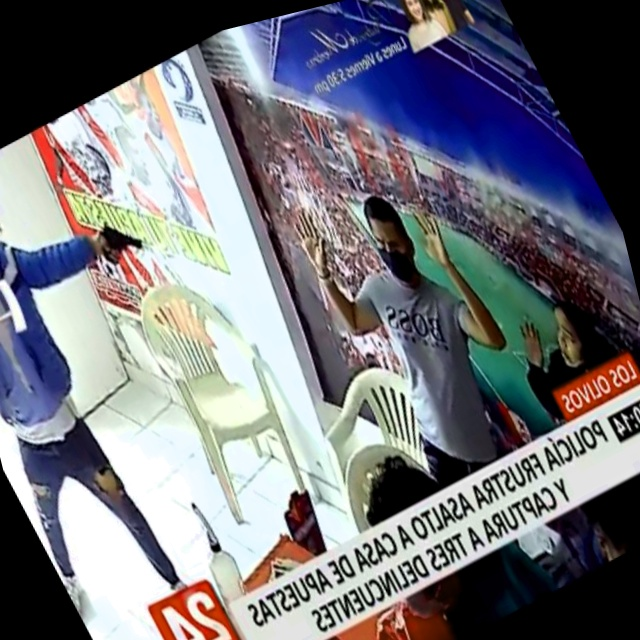gun: (77, 187, 165, 292)
